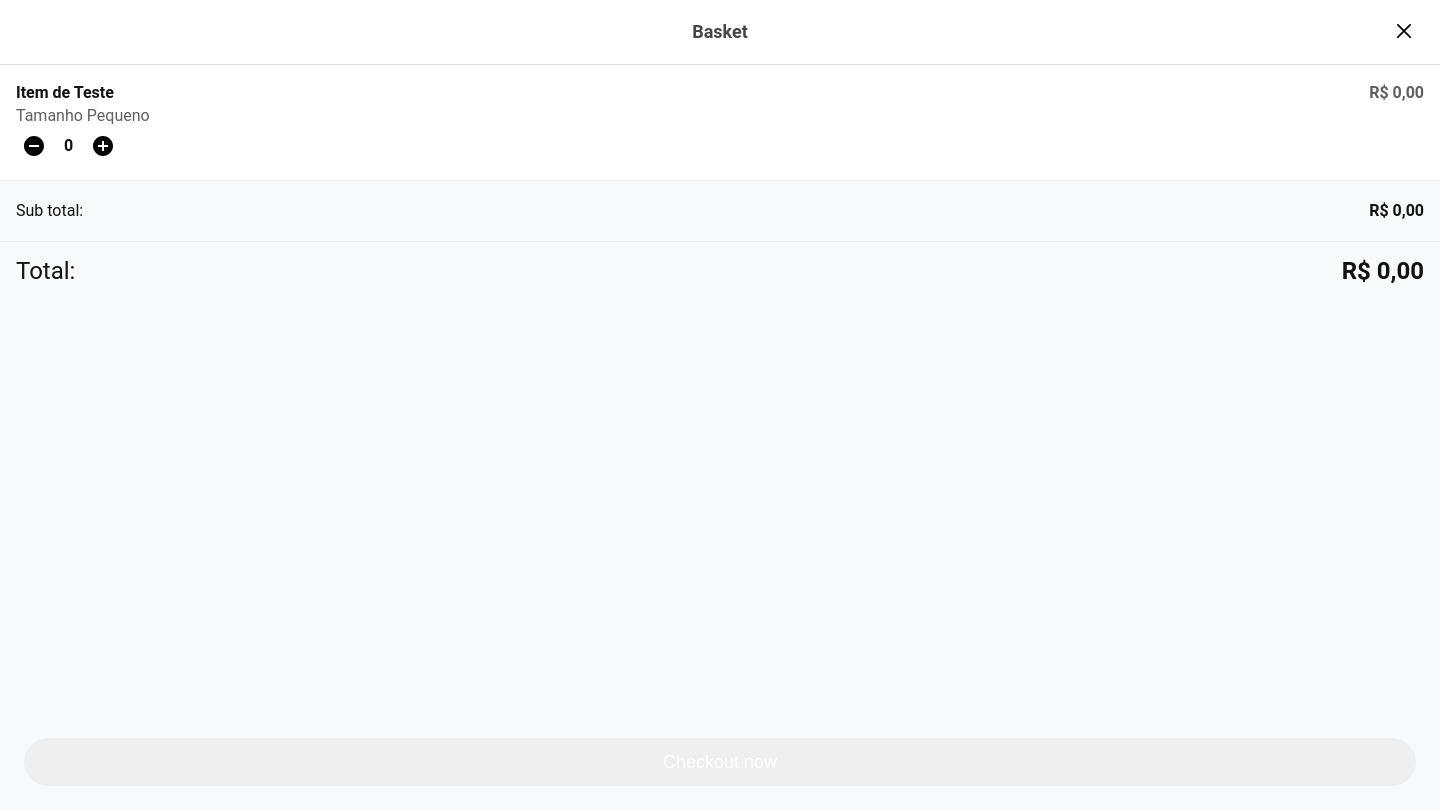
Test case: <CartMobile /> › deve atualizar a quantidade de um item no carrinho
What coordinates should you click on to do the following:
click the button with test id "increment-button"
I would click on:
 (103, 146)
Its box is [85,133,121,159].
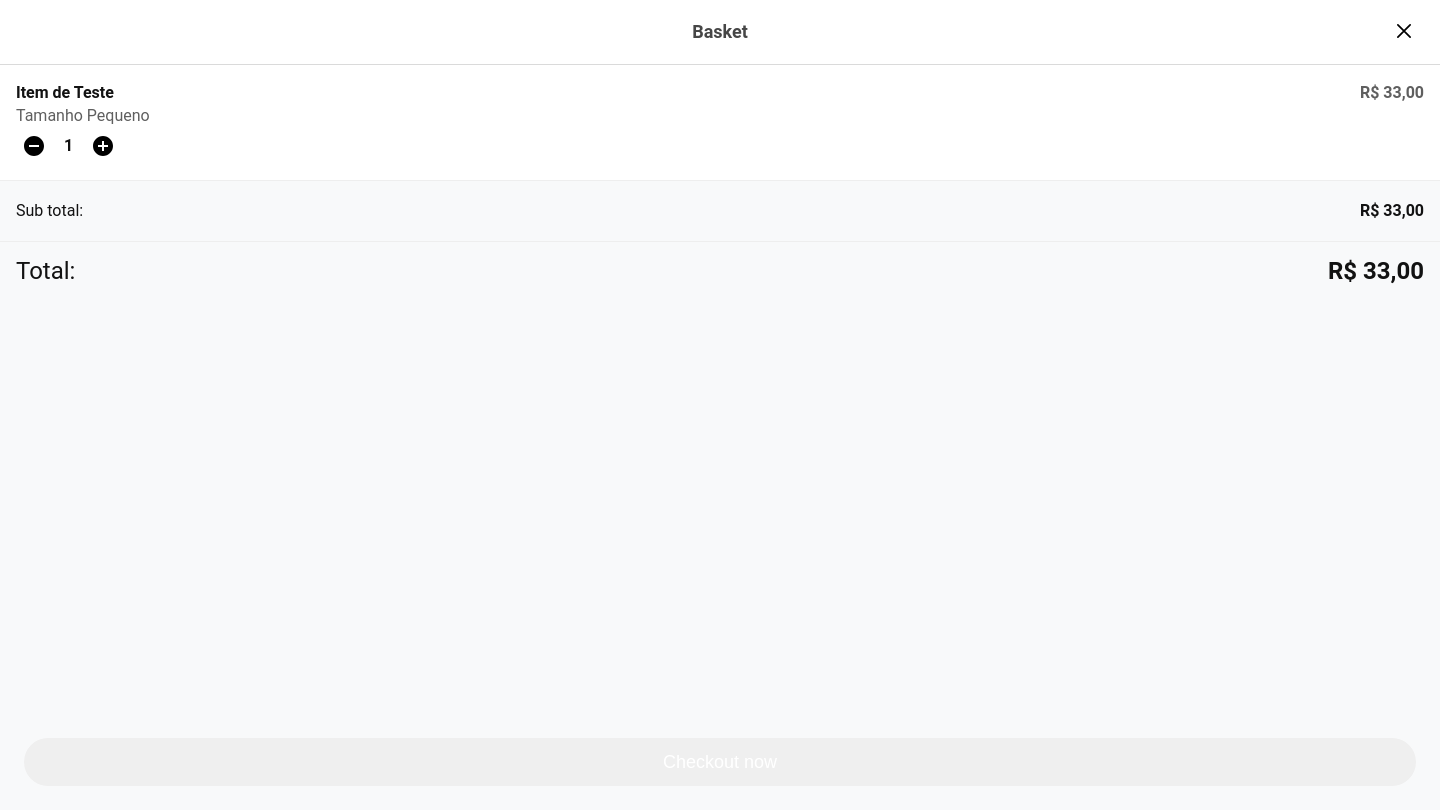
Expected: the text with test id "quantity-display" reads "1", [64,136,73,155]
